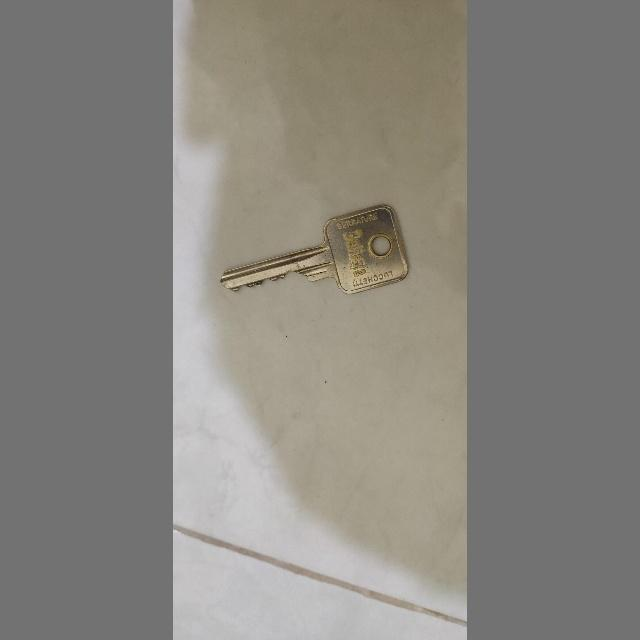Keys: (216, 194, 418, 302)
